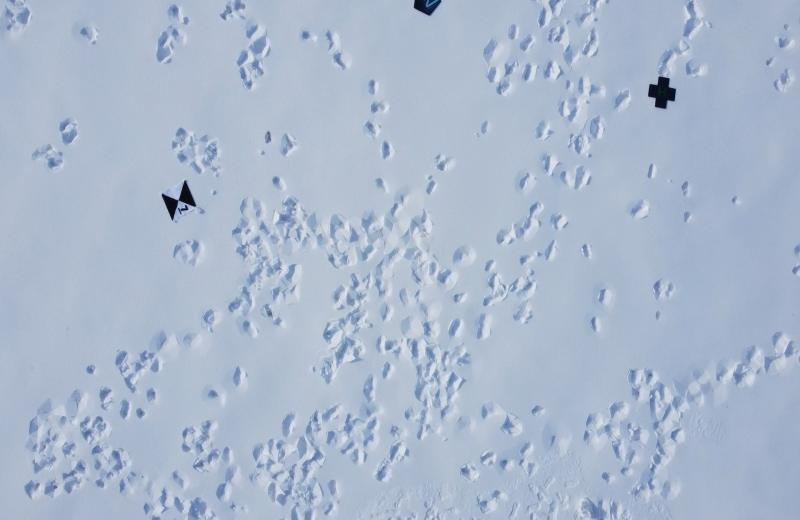Cross: (646, 76, 678, 112)
Pentagon: (411, 0, 442, 18)
